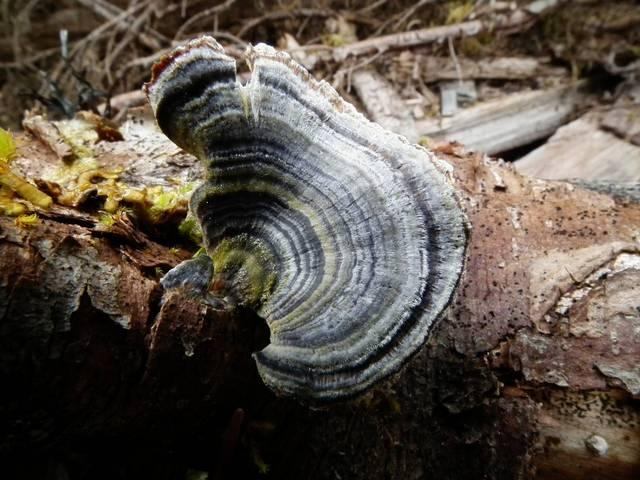poisonous_mushroom: (141, 33, 471, 406)
